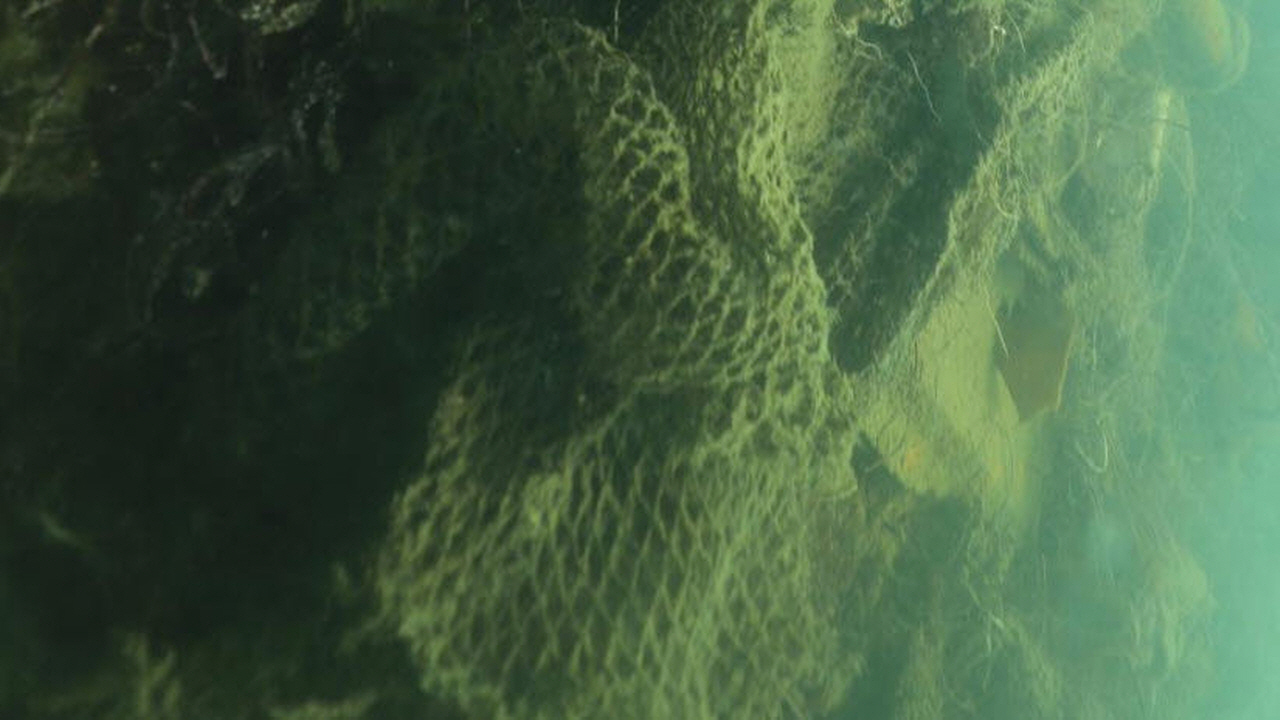fish net: (228, 0, 917, 720)
